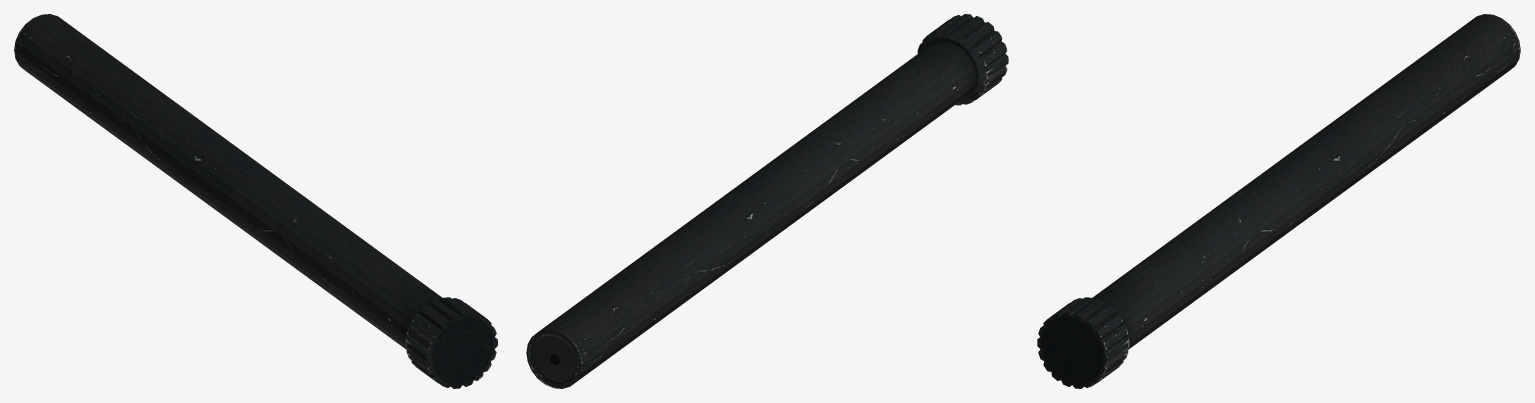
3 renders of one model, left to right at view 1: azimuth 30°, elevation 25°; view 2: azimuth 150°, elevation 25°; view 3: azimuth 330°, elevation 25°, orthographic.
Parts seen in each view (by area): view 1: TW_55d485804bdc2d8c2f8b456b_PZ_Import; view 2: TW_55d485804bdc2d8c2f8b456b_PZ_Import; view 3: TW_55d485804bdc2d8c2f8b456b_PZ_Import.
Part boxes in pixels (x1=…): TW_55d485804bdc2d8c2f8b456b_PZ_Import: x1=14, y1=14, x2=497, y2=388; TW_55d485804bdc2d8c2f8b456b_PZ_Import: x1=526, y1=14, x2=1008, y2=388; TW_55d485804bdc2d8c2f8b456b_PZ_Import: x1=1037, y1=14, x2=1520, y2=388.
Bounding box in the file's own units: 0.017 × 0.1776 × 0.0171.
1 material, 1 textured.
